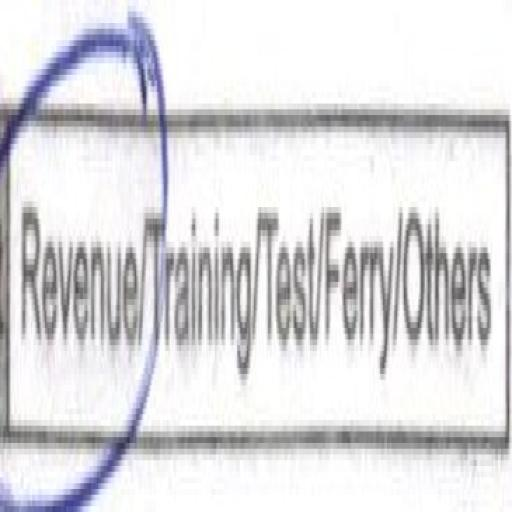check: (4, 0, 147, 512)
